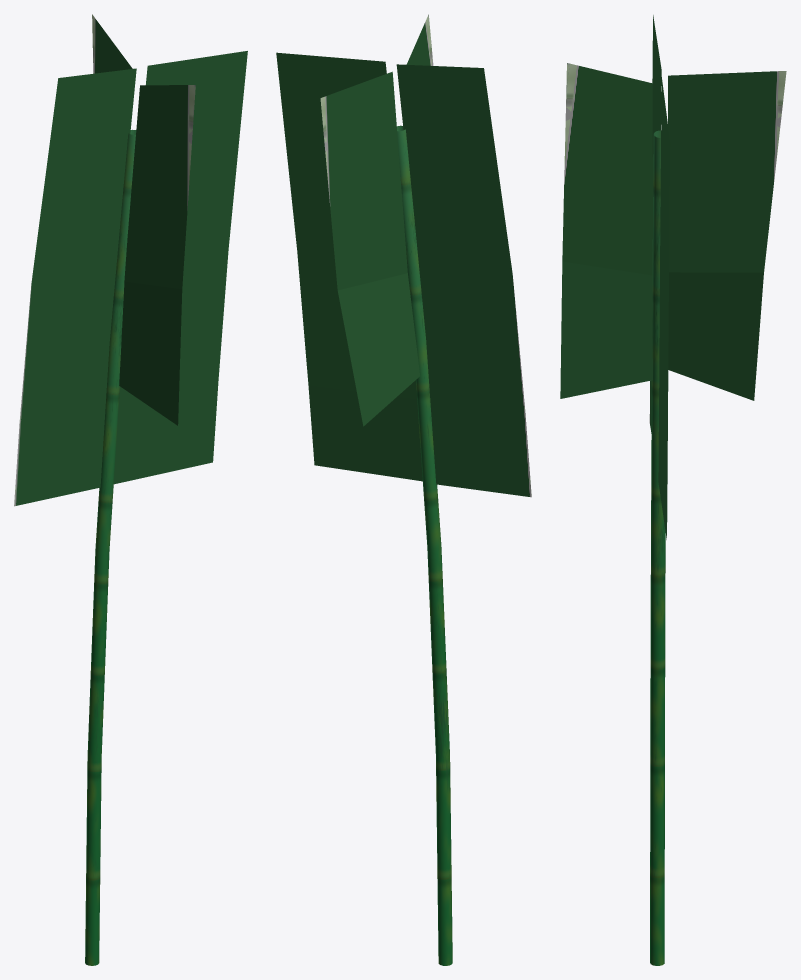
The model's file is BAMBU LOD CERTO 2.fbx.
3 renders of one model, left to right at view 1: azimuth 30°, elevation 25°; view 2: azimuth 150°, elevation 25°; view 3: azimuth 270°, elevation 25°, orthographic. The views are drawn at different scales.
Parts seen in each view (by area): view 1: bambu_LOD0; view 2: bambu_LOD0; view 3: bambu_LOD0.
Boxes of the visible parts, left/top/right/bottom form: bambu_LOD0: left=14, top=14, right=247, bottom=965; bambu_LOD0: left=276, top=14, right=531, bottom=965; bambu_LOD0: left=560, top=15, right=786, bottom=965.
Size of what is drawn, in the model's own units: 306 by 1073 by 236.
